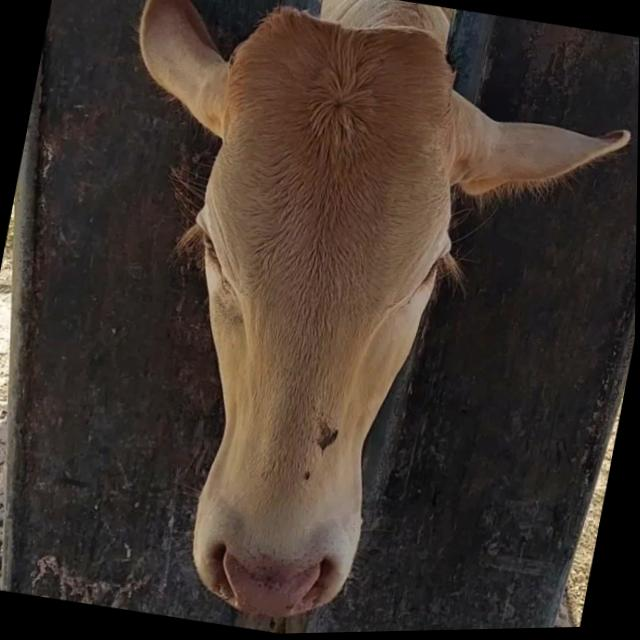cowFace: (123, 0, 487, 631)
